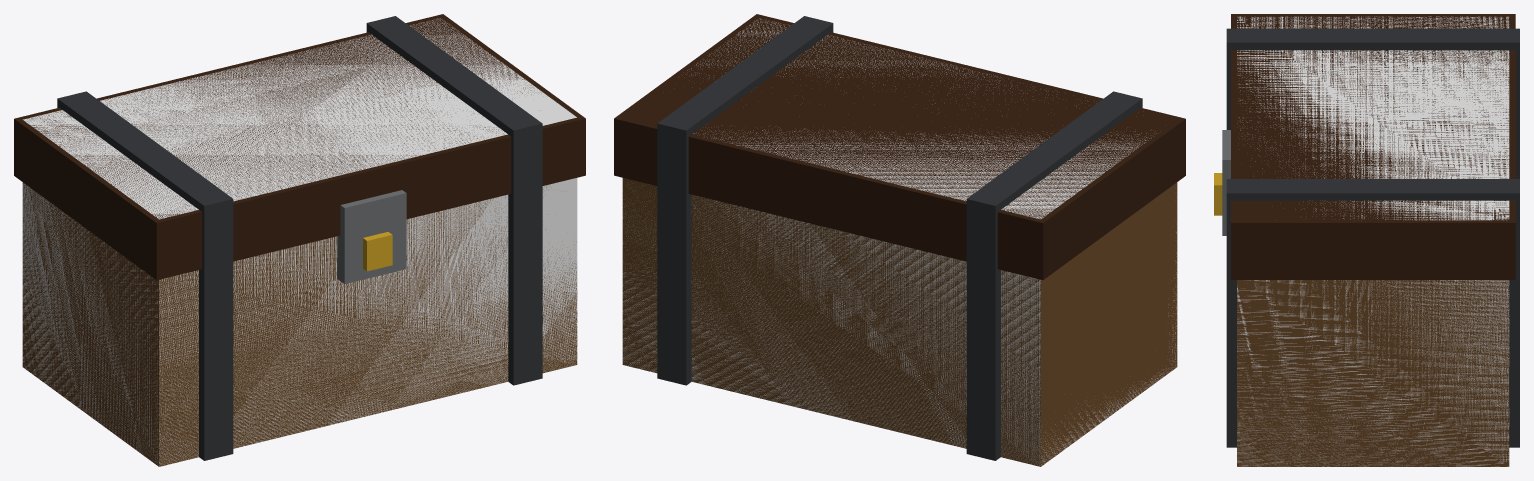
Rendered from StorageChest.fbx.
3 renders of one model, left to right at view 1: azimuth 30°, elevation 25°; view 2: azimuth 150°, elevation 25°; view 3: azimuth 270°, elevation 25°, orthographic.
Visible parts, largest first — view 1: StorageChest, COL_StorageChest_0; view 2: StorageChest, COL_StorageChest_0; view 3: StorageChest, COL_StorageChest_0.
Boxes of the visible parts, left/top/right/bottom form: StorageChest: left=14, top=14, right=585, bottom=466; COL_StorageChest_0: left=22, top=18, right=577, bottom=466; StorageChest: left=614, top=14, right=1185, bottom=466; COL_StorageChest_0: left=622, top=18, right=1177, bottom=465; StorageChest: left=1214, top=14, right=1519, bottom=466; COL_StorageChest_0: left=1237, top=16, right=1509, bottom=466.
Size of the model in its own units: 1.18 by 0.67 by 0.73.
